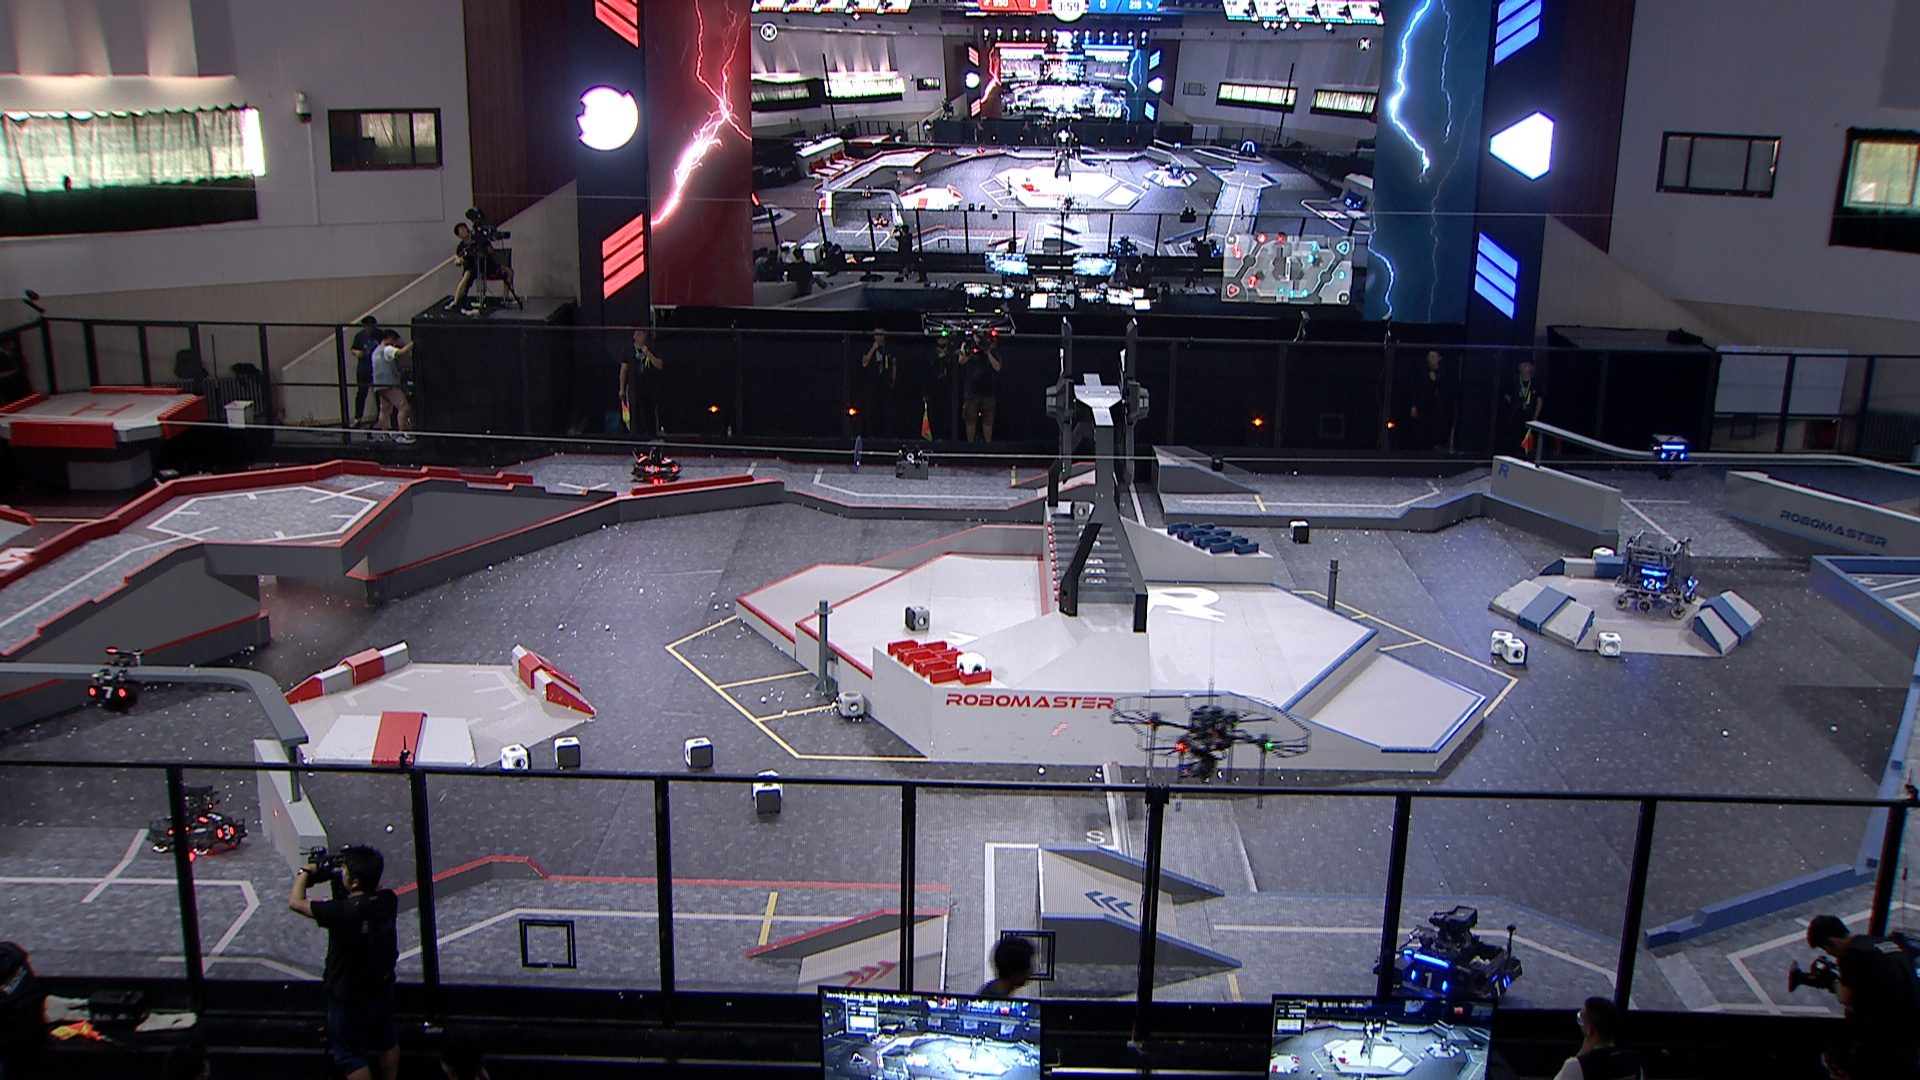armor: (1408, 969, 1451, 994), (86, 684, 129, 700), (1487, 977, 1513, 1001), (196, 811, 225, 825), (1640, 578, 1664, 593), (1403, 940, 1423, 957), (216, 825, 237, 841), (1662, 450, 1685, 462), (645, 463, 662, 475), (659, 456, 676, 465)
car: (1371, 902, 1524, 1015), (144, 781, 251, 858), (1613, 531, 1698, 618), (632, 440, 684, 483)
ignore: (752, 190, 769, 218), (1114, 237, 1138, 257), (1344, 194, 1366, 214), (1238, 138, 1258, 160), (1207, 237, 1225, 258), (1167, 164, 1187, 178), (861, 183, 876, 200), (1172, 140, 1185, 154), (874, 214, 889, 225)
watcher: (84, 646, 144, 716), (1654, 434, 1691, 480)
